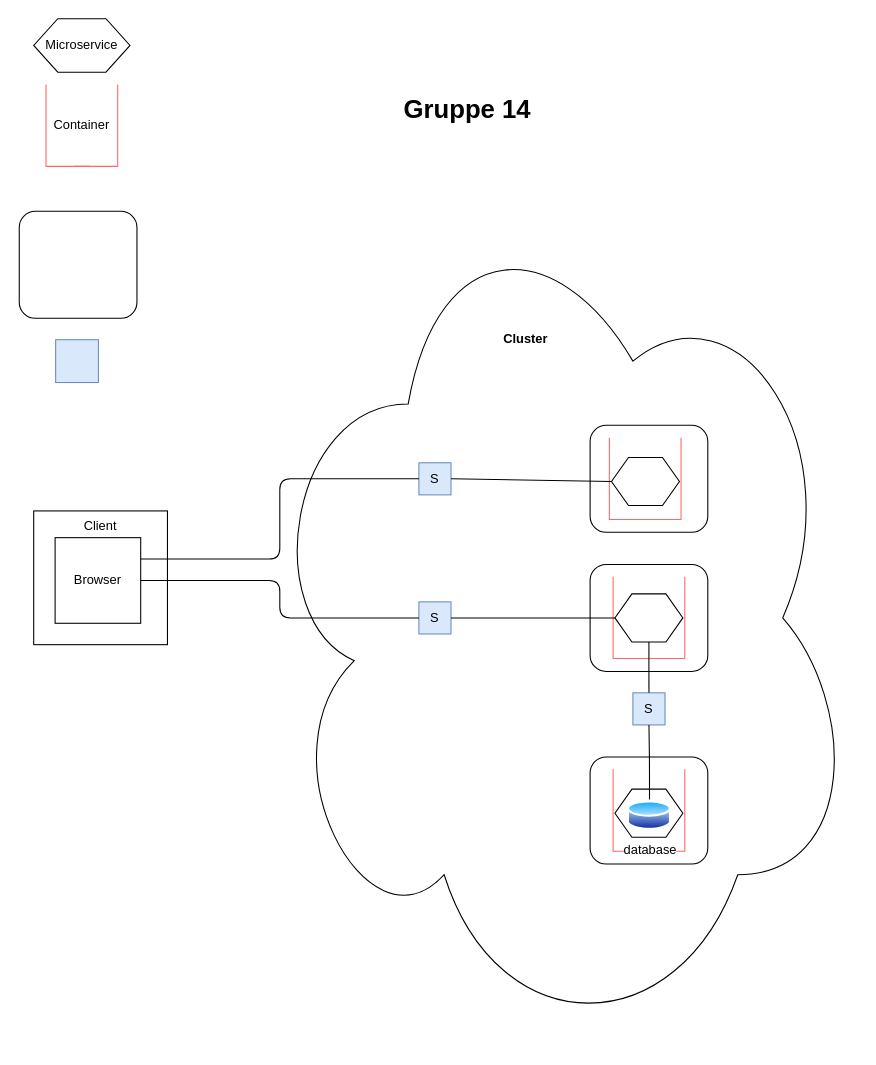
Some shapes in this 876 by 1065 pixel diagram are drawn without their labels. Each missing label, with the centre of its shape:
backend: the point at 648,617
frontend: the point at 644,481
K8S Service: the point at 76,361
Pod: the point at 77,264
